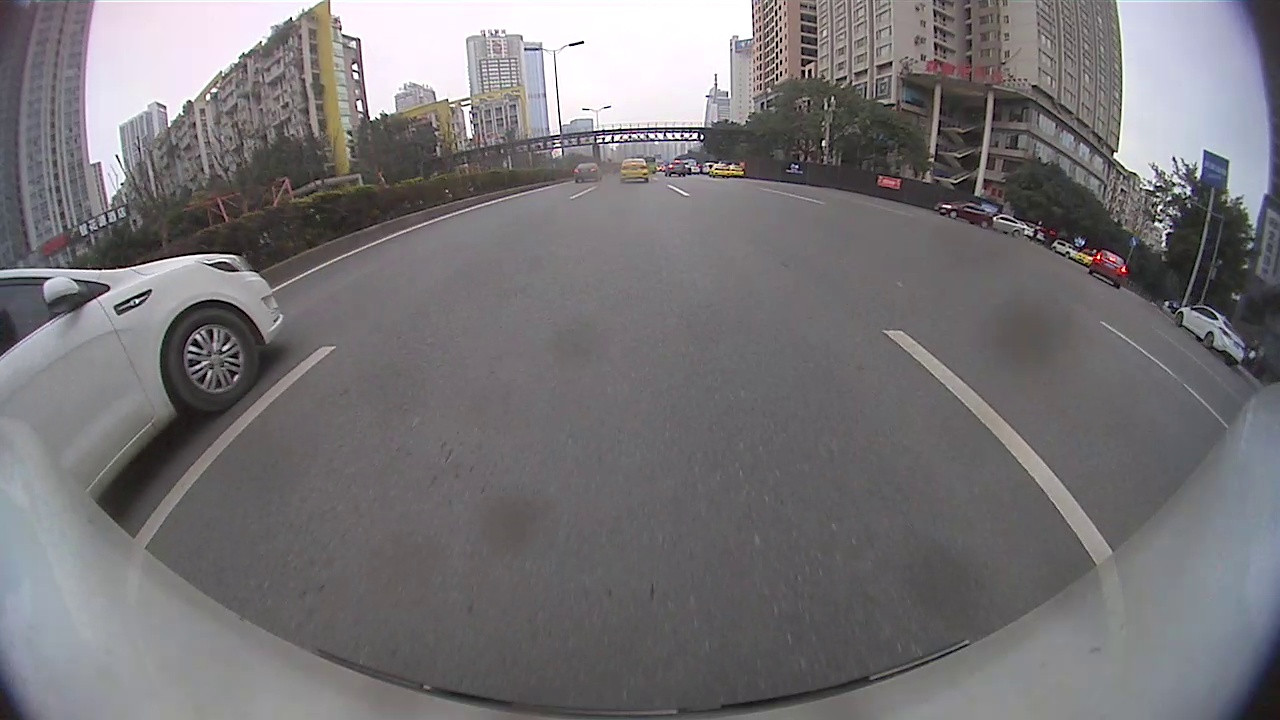car: (1, 253, 285, 499), (1175, 306, 1247, 367), (1088, 250, 1127, 290), (937, 202, 993, 228), (989, 215, 1026, 240), (619, 159, 650, 183), (574, 161, 600, 183), (663, 162, 688, 178), (709, 164, 730, 177), (727, 164, 745, 178)
front: (165, 303, 265, 415), (1173, 310, 1185, 327)
rear: (1200, 330, 1217, 353)
